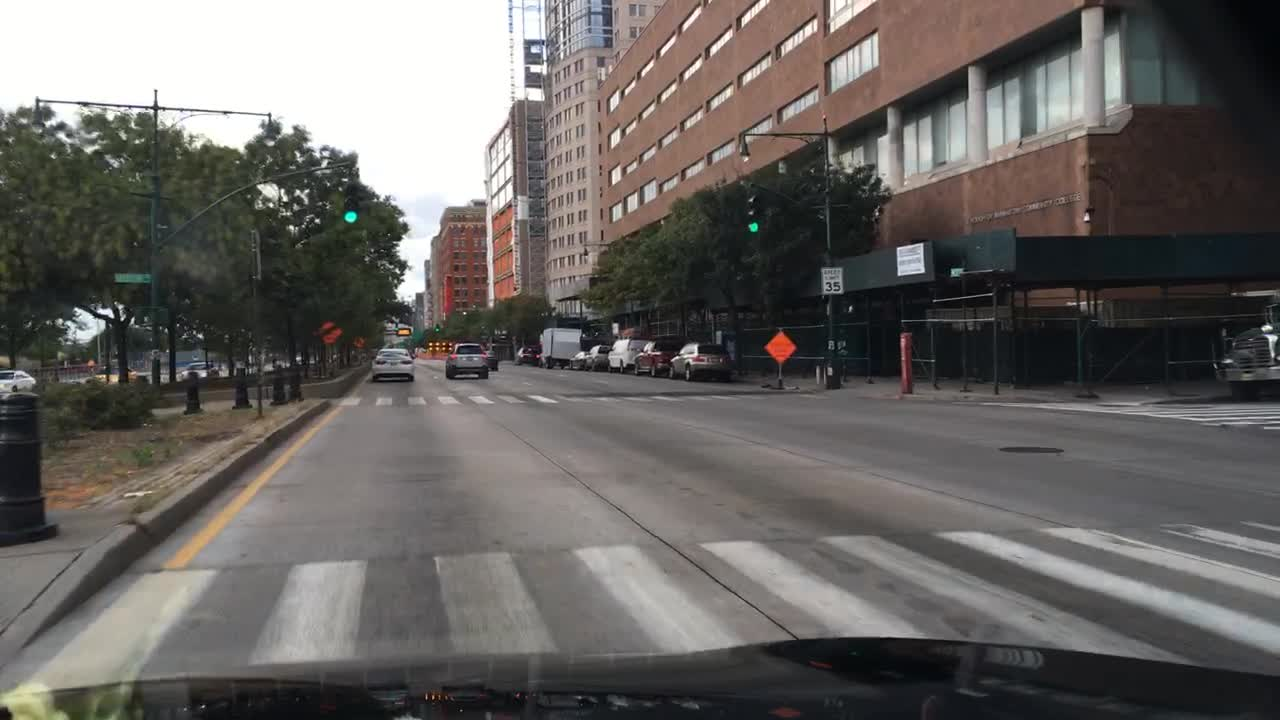car: (1215, 297, 1277, 398), (666, 340, 732, 382), (635, 337, 681, 376), (444, 342, 488, 379), (370, 348, 412, 380), (609, 338, 648, 371), (91, 363, 142, 384), (0, 371, 37, 392), (586, 343, 613, 371), (180, 364, 214, 378), (512, 346, 538, 364), (488, 345, 500, 370), (569, 353, 583, 372)
traffic light: (342, 184, 360, 225), (747, 193, 762, 232), (392, 318, 400, 331), (434, 321, 441, 334)
traffic sign: (766, 328, 795, 363), (823, 268, 843, 292), (320, 322, 339, 343), (115, 273, 153, 283), (355, 334, 364, 347)
truck: (540, 327, 587, 368)
